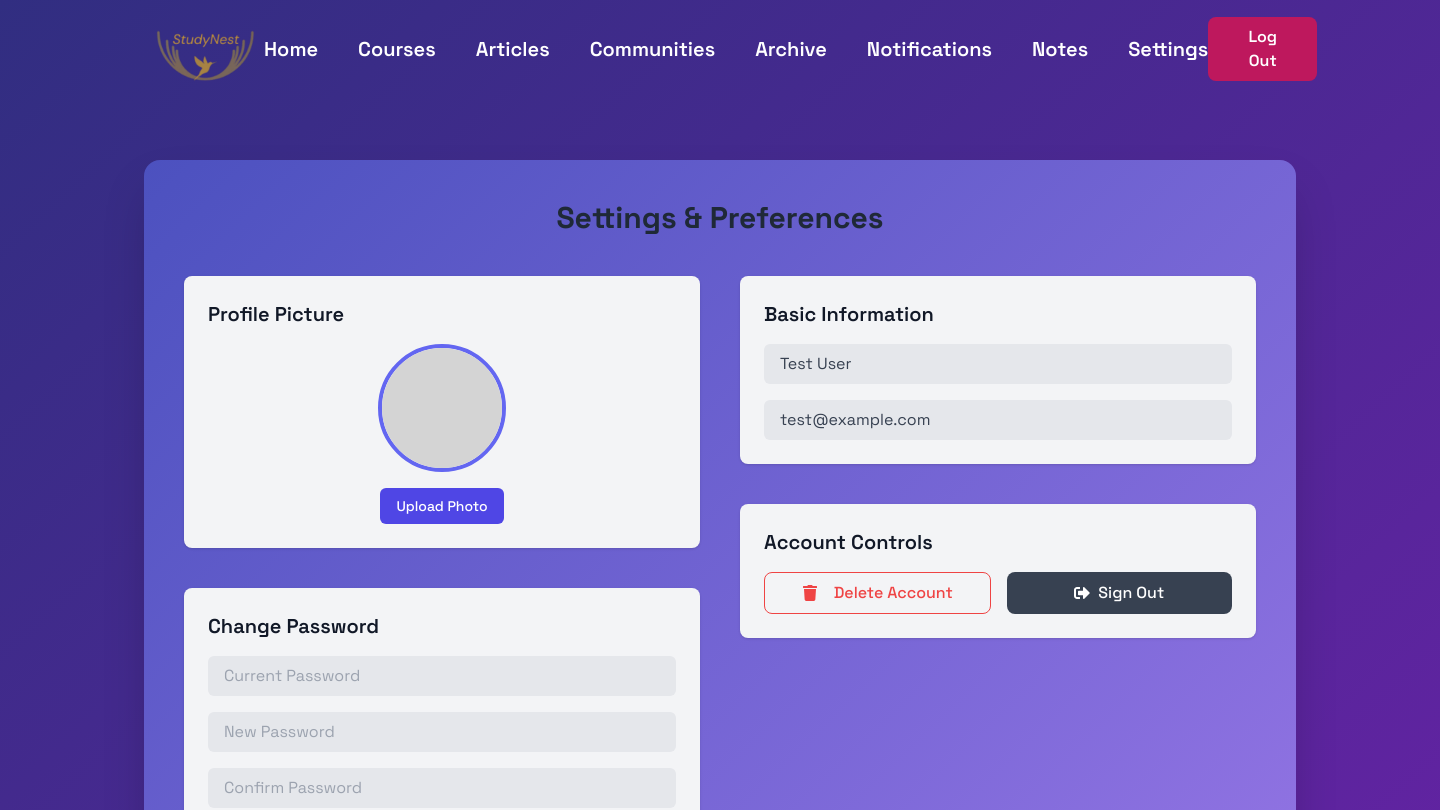
Scenario: SettingsPage › displays error when trying to save with empty name
This screenshot has width=1440, height=810.
Step 1. Clear the 1st field with placeholder "Full Name" → (998, 364), box [764,344,1232,384]
(page scrolled)
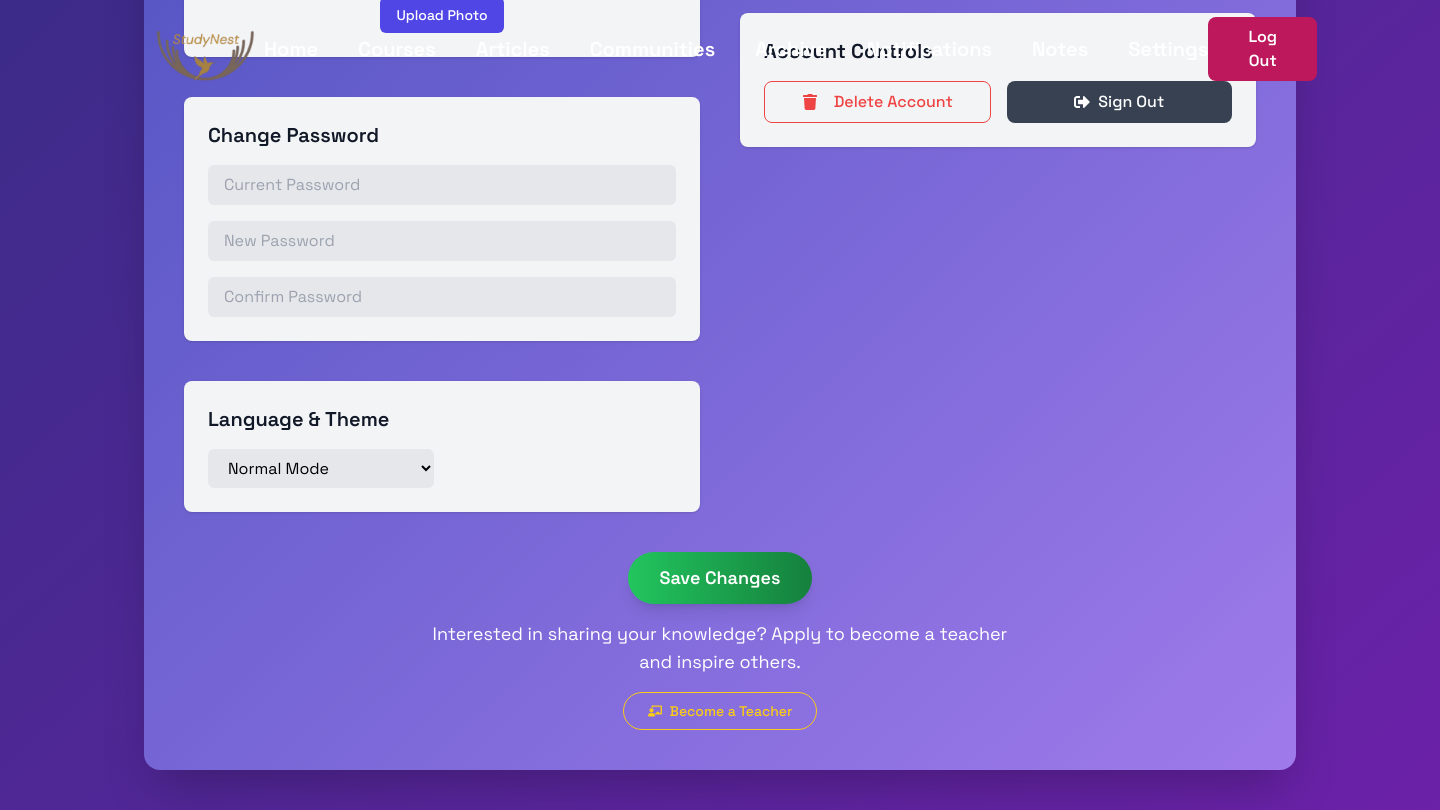
Step 2. Click the button "Save Changes" → (720, 578), box [628,552,812,604]
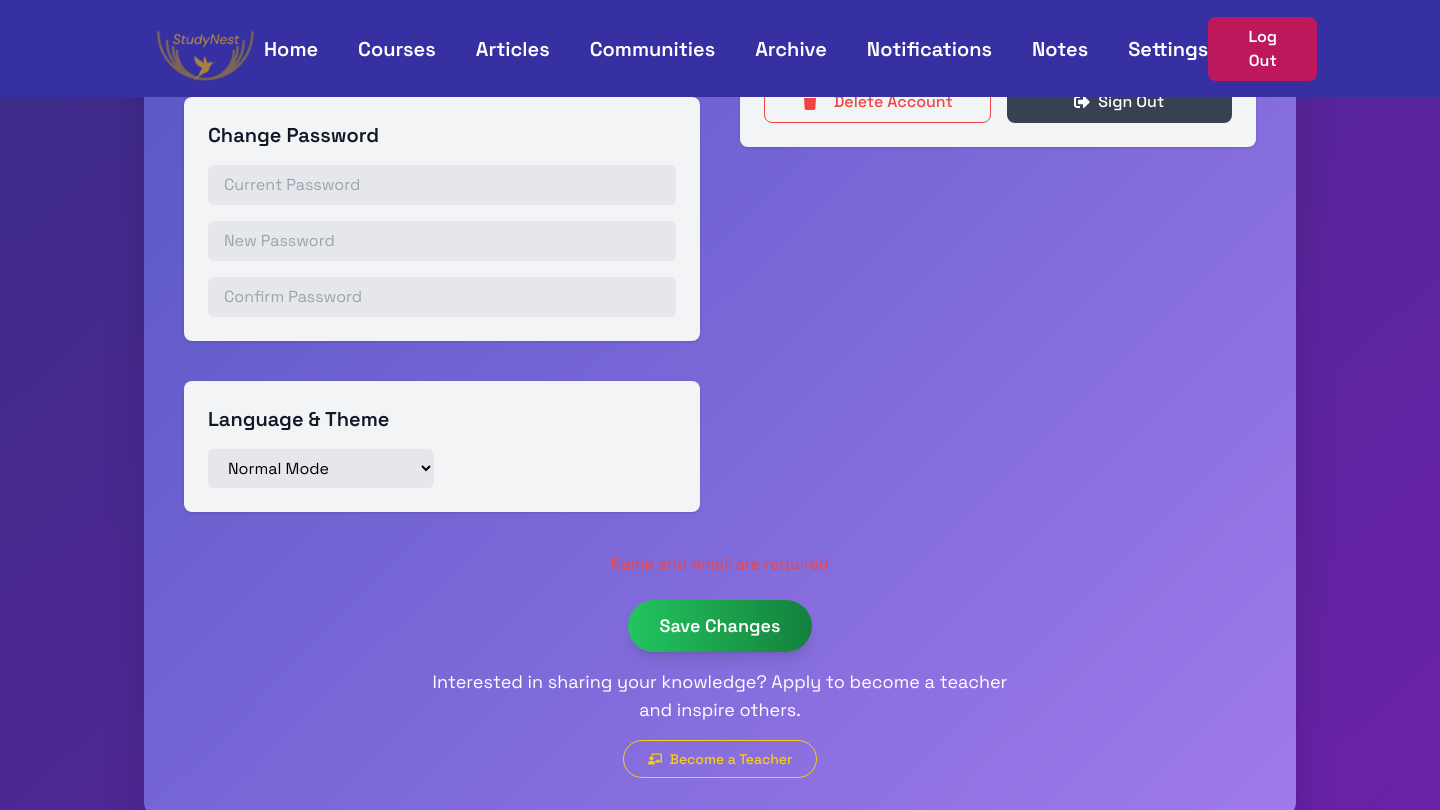
Expected: the text "Name and email are required" is shown, [611,552,829,576]
